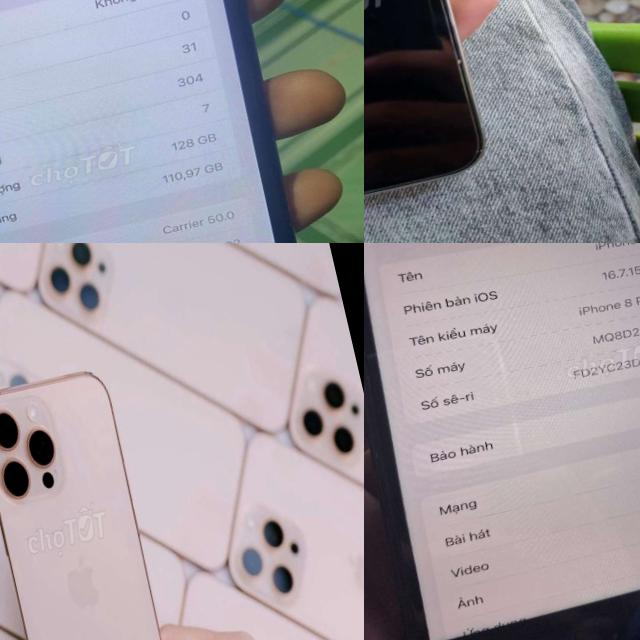scratch: (472, 146, 489, 156), (452, 54, 465, 66)
